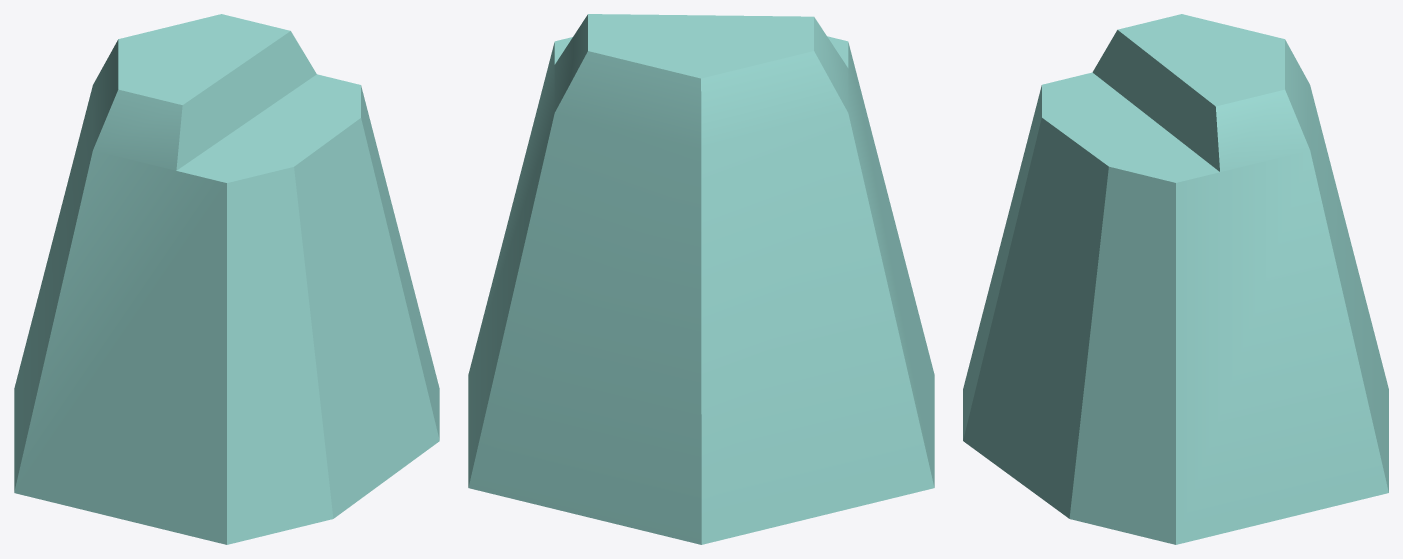
The model's file is rock_tall5.fbx.
3 views of the same model, side by side, from view 1: azimuth 30°, elevation 25°; view 2: azimuth 150°, elevation 25°; view 3: azimuth 270°, elevation 25° (orthographic). The views are drawn at different scales.
Parts seen in each view (by area): view 1: rock_tall5; view 2: rock_tall5; view 3: rock_tall5.
Boxes of the visible parts, <box> form: rock_tall5: <box>14,14,439,544</box>; rock_tall5: <box>468,14,934,544</box>; rock_tall5: <box>963,14,1388,544</box>.
Bounding box in the file's own units: 158 × 133 × 137.
